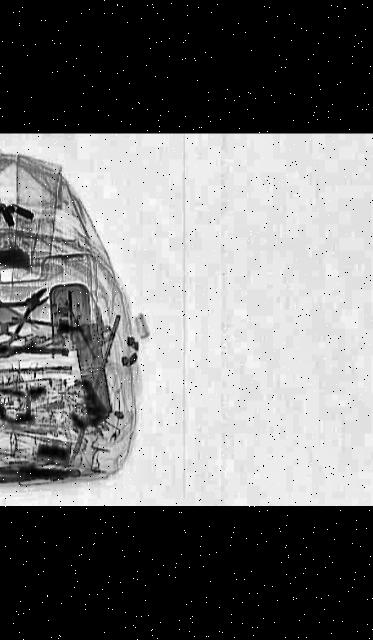Pliers: (0, 277, 73, 345), (0, 295, 33, 361), (0, 462, 80, 485)
